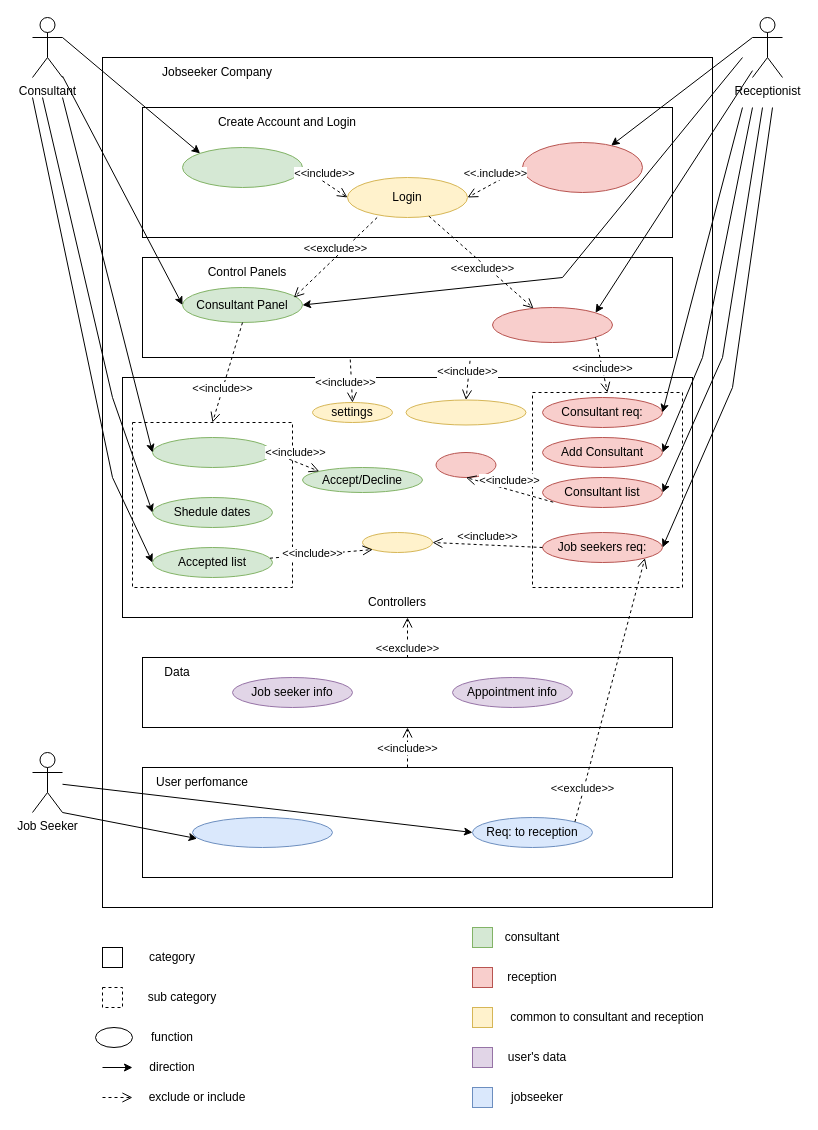
Some shapes in this 818 by 1130 pixel diagram are drawn without their labels. Each missing label, with the box of its shape:
Appointment req:: (152, 436, 272, 468)
Ban: (435, 452, 496, 478)
defaul login credentials: (522, 142, 642, 192)
Manual emails: (405, 399, 526, 425)
Reception Panel: (492, 306, 612, 342)
Remove: (362, 532, 432, 552)
Req: an appointment: (192, 816, 332, 848)
Request Account: (182, 146, 302, 188)
